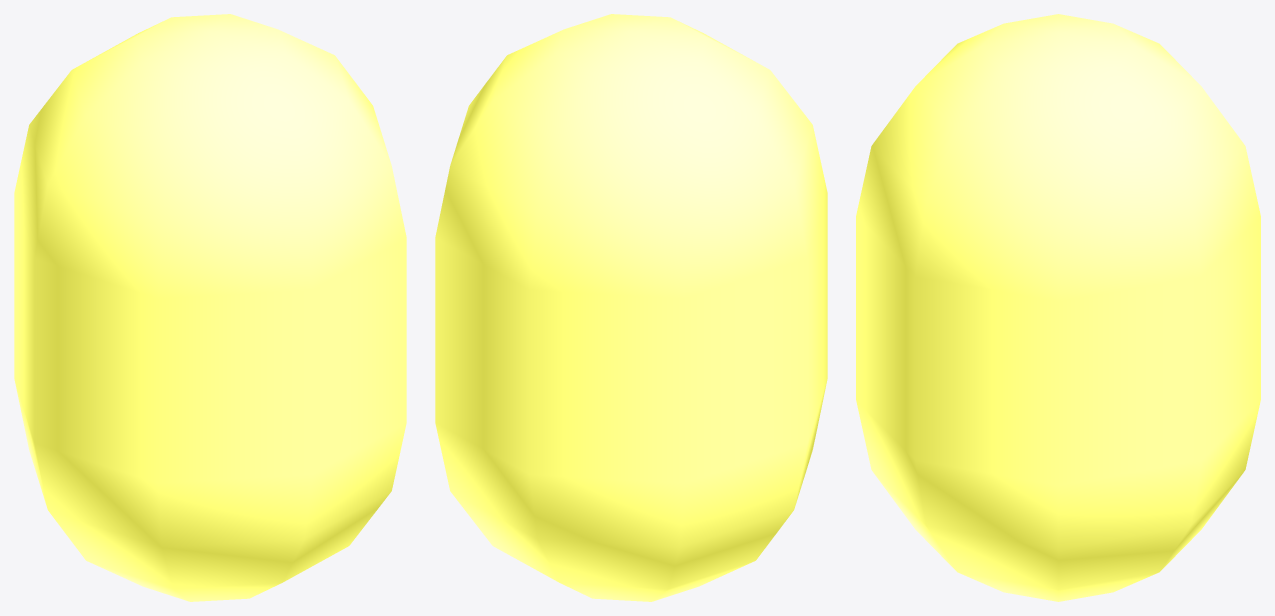
The model's file is sprite.gltf.
The picture shows the model from 3 angles, left to right: view 1: azimuth 30°, elevation 25°; view 2: azimuth 150°, elevation 25°; view 3: azimuth 270°, elevation 25°; orthographic projection.
Visible parts, largest first — view 1: Capsule; view 2: Capsule; view 3: Capsule.
Part boxes in pixels (bbox=[...]): Capsule: bbox=[14, 14, 406, 601]; Capsule: bbox=[435, 14, 827, 601]; Capsule: bbox=[856, 14, 1260, 601].
Size of the model in its own units: 2 by 3 by 2.
